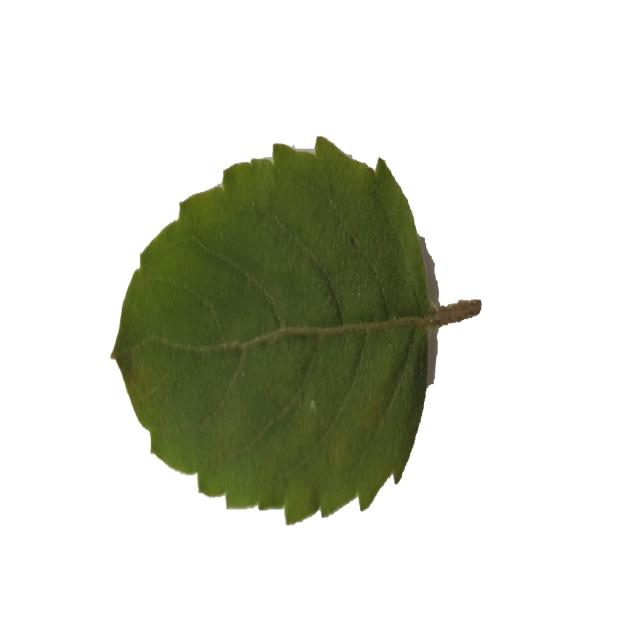tulsi: (110, 136, 475, 528)
